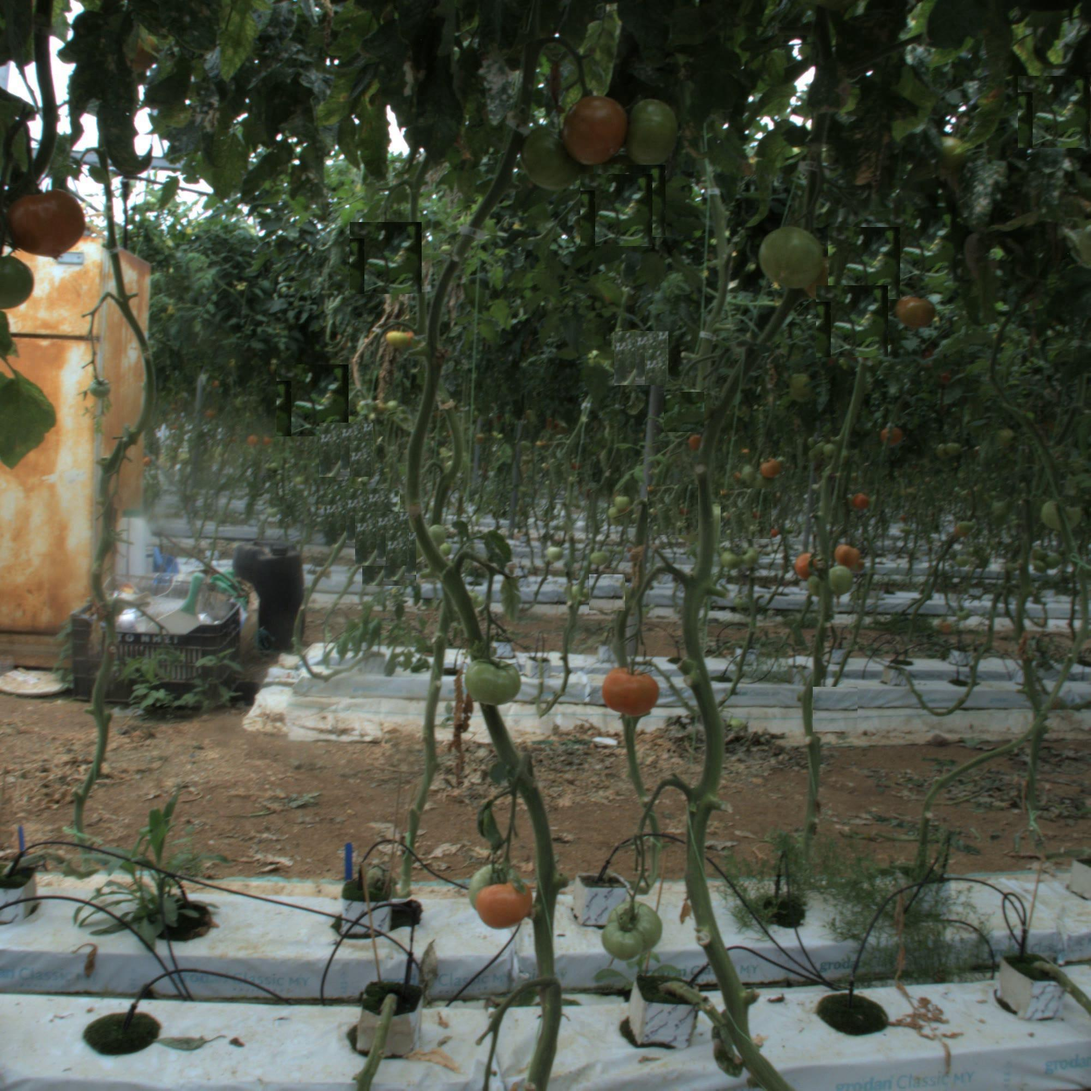fully-ripe: (565, 95, 631, 161), (603, 661, 660, 717), (475, 872, 531, 928)
semi-ripe: (8, 184, 82, 259), (894, 292, 937, 335)
unripe: (522, 123, 588, 188), (614, 101, 680, 166), (760, 226, 825, 292), (603, 901, 660, 958), (466, 649, 523, 706)
